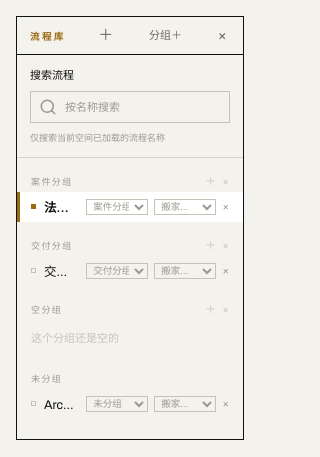
Test: 流程库的 Arc 名称搜索 › does not search node text, email contents, folder names or any unloaded workspace
Step 1. Type "NODE-ONLY" into the search field labelled "搜索流程" → {"x": 127, "y": 107}, box [63,100,191,114]
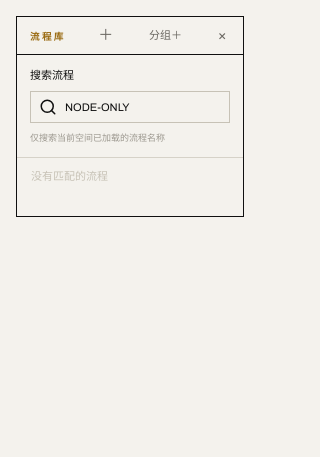
Result: the message reads "没有匹配的流程" at [31,170,108,182]
Step 2. Replace the text in the search field labelled "搜索流程" with "MAIL-ONLY" → {"x": 127, "y": 107}, box [63,100,191,114]
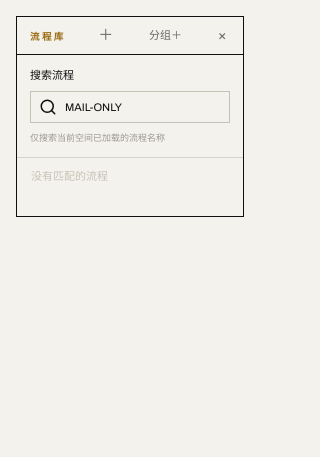
Result: the message reads "没有匹配的流程" at [31,170,108,182]
Step 3. Replace the text in the search field labelled "搜索流程" with "案件分组" → {"x": 127, "y": 107}, box [63,100,191,114]
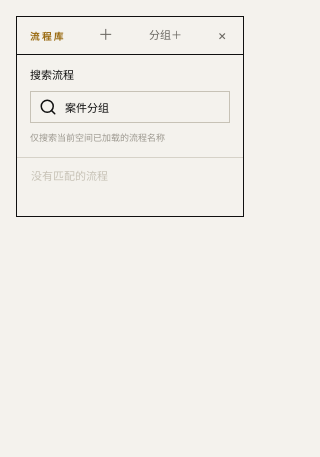
Result: the message reads "没有匹配的流程" at [31,170,108,182]
Step 4. Replace the text in the search field labelled "搜索流程" with "未加载 Team 的流程" → {"x": 127, "y": 107}, box [63,100,191,114]
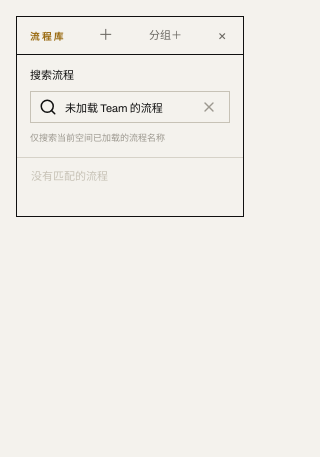
Result: the message reads "没有匹配的流程" at [31,170,108,182]
Step 5. Click the button named "清空搜索" → {"x": 209, "y": 107}, box [197,95,221,119]
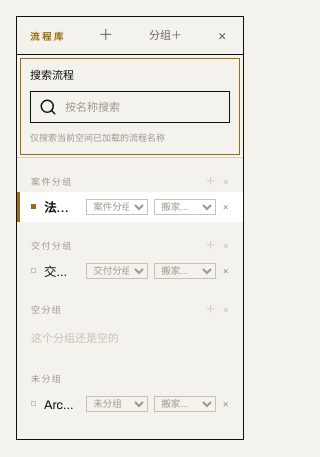
Result: the 5th field showing "空分组" is shown at [31,304,199,315]
